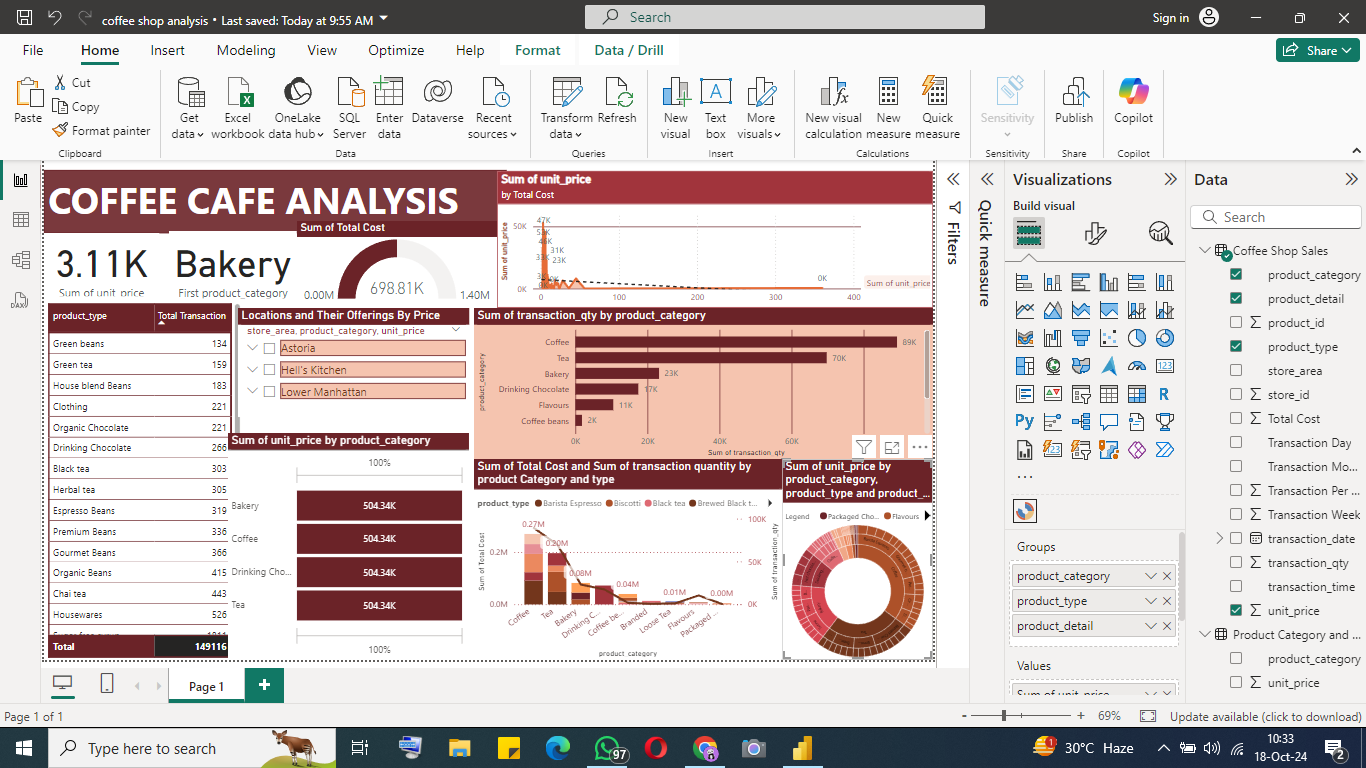

This screenshot's page, from the dashboard's own definition file:
{"tool":"powerbi","page":{"name":"Page 1","canvas":[1280,720],"ordinal":0},"visuals":[{"type":"textbox","box":[0,14.3,665.7,91.4],"z":0},{"type":"tableEx","fields":{"Values":["Coffee Shop Sales.product_type","CountNonNull(Coffee Shop Sales.unit_price)"]},"box":[0,201.6,288,519.8],"z":1000},{"type":"lineChart","fields":{"Y":["Sum(Coffee Shop Sales.unit_price)"],"Category":["Coffee Shop Sales.Total Cost"]},"box":[652.3,15.8,627.8,197.3],"z":2000},{"type":"slicer","title":"Locations and Their Offerings By Price","fields":{"Values":["Coffee Shop Sales.store_location","Coffee Shop Sales.product_category","Coffee Shop Sales.unit_price"]},"box":[279.4,213.1,332.6,157],"z":3000},{"type":"barChart","fields":{"Category":["Coffee Shop Sales.product_category","Coffee Shop Sales.Transaction Month"],"Y":["Sum(Coffee Shop Sales.transaction_qty)"]},"box":[618.8,212.8,661.6,218.9],"z":4000},{"type":"Sunburst1445472000808","fields":{"Nodes":["Coffee Shop Sales.product_category","Coffee Shop Sales.product_type","Coffee Shop Sales.product_detail"],"Values":["Sum(Coffee Shop Sales.unit_price)"]},"box":[1062.2,430.5,218.3,289],"z":5000},{"type":"lineStackedColumnComboChart","title":"Sum of Total Cost and Sum of transaction quantity by product Category and type","fields":{"Category":["Coffee Shop Sales.product_category"],"Y":["Sum(Coffee Shop Sales.Total Cost)"],"Y2":["Sum(Coffee Shop Sales.transaction_qty)"],"Series":["Coffee Shop Sales.product_type"]},"box":[619.2,430.6,443.5,289.4],"z":6000},{"type":"funnel","fields":{"Category":["Product Category and Price.product_category"],"Y":["Sum(Coffee Shop Sales.unit_price)"]},"box":[265,393.1,347,326.9],"z":7000},{"type":"gauge","fields":{"Y":["Sum(Coffee Shop Sales.Total Cost)"]},"box":[364.3,87.8,288,125.3],"z":8000},{"type":"card","fields":{"Values":["CountNonNull(Coffee Shop Sales.Total Cost)"]},"box":[0,97.9,190.1,102.2],"z":9001},{"type":"actionButton","box":[0,0,100,40],"z":9002},{"type":"card","fields":{"Values":["Min(Coffee Shop Sales.product_type)"]},"box":[190.1,96.5,174.2,109.4],"z":9003}]}

Visuals, with their boxes on the page's 1280x720 design canvas (x1, y1, x2, y2). These are canvas units, not pixel positions in the 1366x768 screenshot, which may show the page scaled, cropped or inside an application window:
textbox: 0,14,666,106
tableEx - Coffee Shop Sales.product_type x CountNonNull(Coffee Shop Sales.unit_price): 0,202,288,721
lineChart - Sum(Coffee Shop Sales.unit_price) x Coffee Shop Sales.Total Cost: 652,16,1280,213
"Locations and Their Offerings By Price" slicer: 279,213,612,370
barChart - Coffee Shop Sales.product_category x Coffee Shop Sales.Transaction Month: 619,213,1280,432
Sunburst1445472000808 - Coffee Shop Sales.product_category x Coffee Shop Sales.product_type: 1062,430,1280,720
"Sum of Total Cost and Sum of transaction quantity by product Category and type" lineStackedColumnComboChart: 619,431,1063,720
funnel - Product Category and Price.product_category x Sum(Coffee Shop Sales.unit_price): 265,393,612,720
gauge - Sum(Coffee Shop Sales.Total Cost): 364,88,652,213
card - CountNonNull(Coffee Shop Sales.Total Cost): 0,98,190,200
actionButton: 0,0,100,40
card - Min(Coffee Shop Sales.product_type): 190,96,364,206
